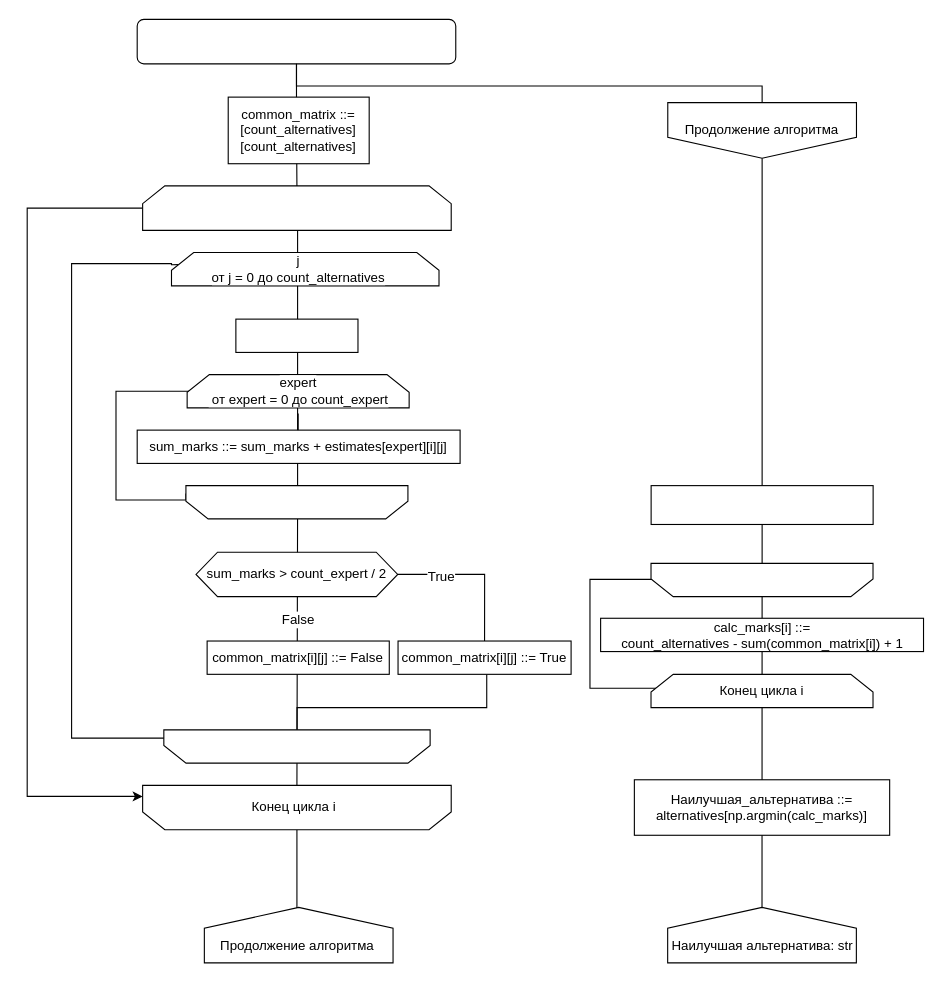
Some shapes in this 944 by 982 pixel diagram are drawn without their labels. Here are the shapes that lost their labels. From the top down, the box of each, then its label:
(136, 18, 456, 64): Подсчёт рангов(count_alternatives, count_expert )
(142, 185, 451, 230): i от i = 0 до count_alternatives - 1
(235, 318, 358, 352): sum_marks ::= 0
(185, 485, 408, 519): Конец цикла expert
(650, 485, 873, 524): calc_marks ::= [count_alternatives]
(650, 562, 873, 597): i от i = 0 до count_alternatives
(163, 729, 430, 763): Конец цикла j
